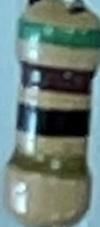Black: (14, 99, 92, 141)
Brown: (19, 59, 98, 97)
Green: (16, 19, 100, 53)
Side-Gold: (8, 144, 92, 180)
